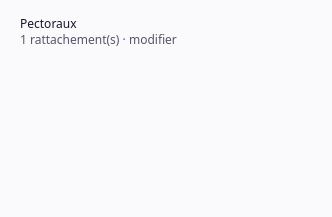
ExerciseCategoriesCell — brouillon › « Annuler » rend le brouillon : rouvrir ne ressuscite pas le choix annulé
Click the button "Pectoraux 1 rattachement(s) · modifier".
click(98, 32)  # box [12,12,185,52]
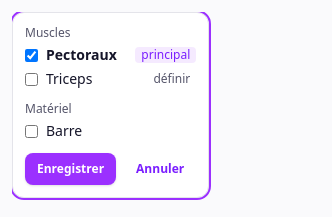
Click the checkbox labelled "Triceps".
click(32, 79)  # box [25,72,38,86]
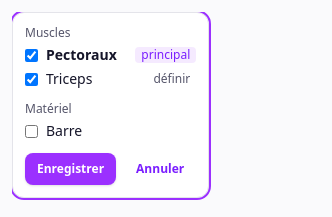
Expected: the checkbox labelled "Triceps" is checked, [25,72,38,86]
Click the button "Annuler".
click(160, 169)  # box [124,153,196,185]
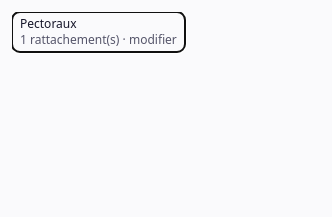
Click the button "Pectoraux 1 rattachement(s) · modifier".
click(98, 32)  # box [12,12,185,52]
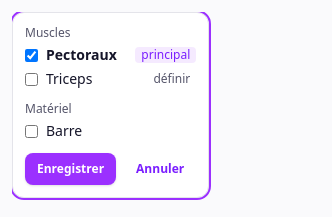
Expected: the checkbox labelled "Triceps" is not checked, [25,72,38,86]
